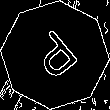P_SE: (25, 24, 85, 86)
